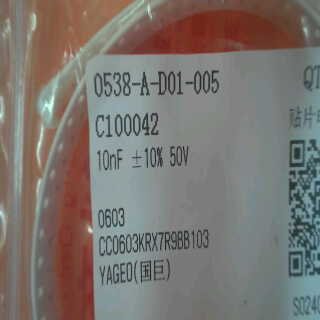10nF: (94, 145, 131, 173)
